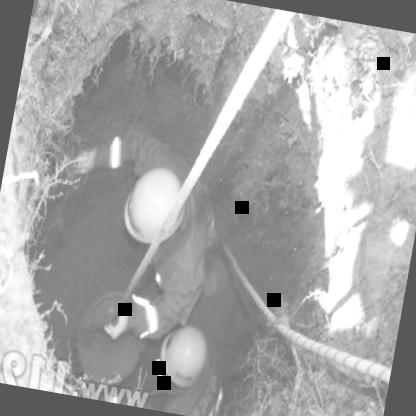helmet: (111, 160, 195, 266), (146, 320, 216, 397)
